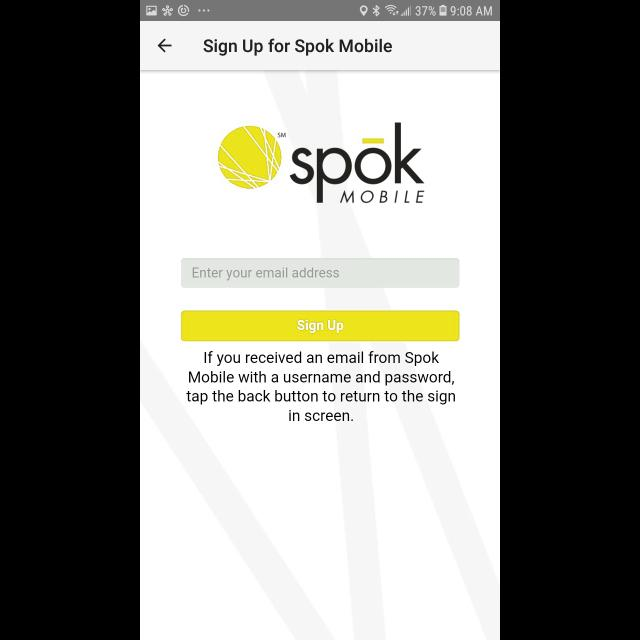backgroundimage: (140, 70, 500, 640)
icon: (158, 39, 172, 53)
image: (218, 122, 426, 204)
input: (181, 258, 459, 288)
text: (187, 351, 456, 422), (204, 39, 392, 57), (193, 268, 339, 280)
textbutton: (182, 310, 460, 342)
uppertaskbar: (140, 1, 500, 22)
